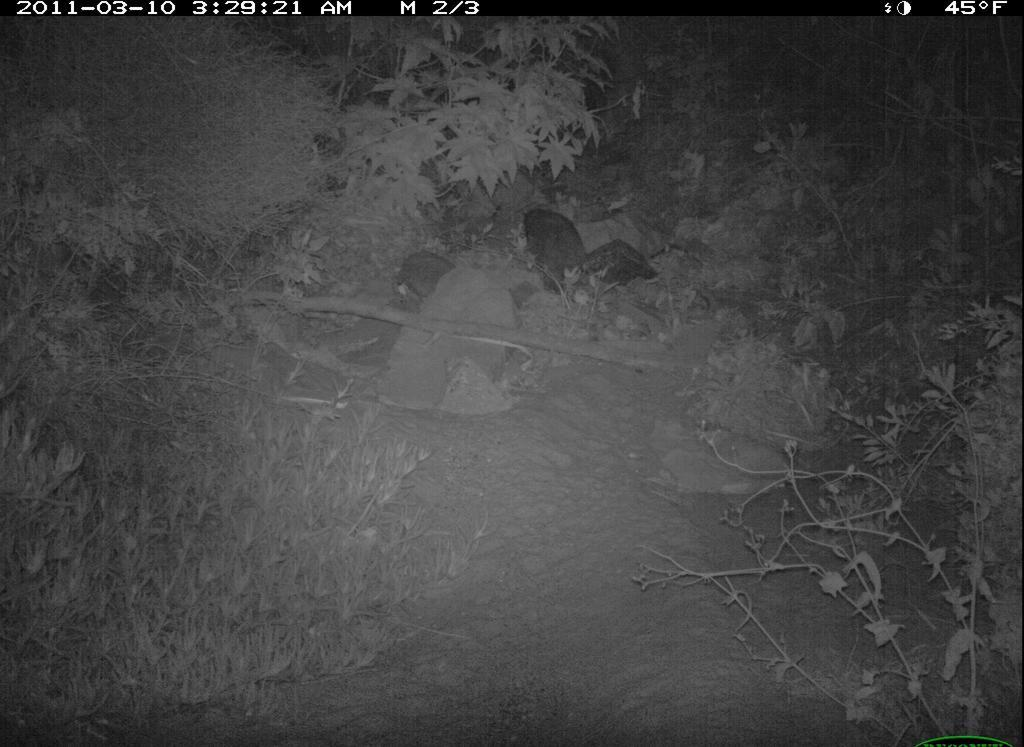raccoon: (520, 198, 593, 301)
